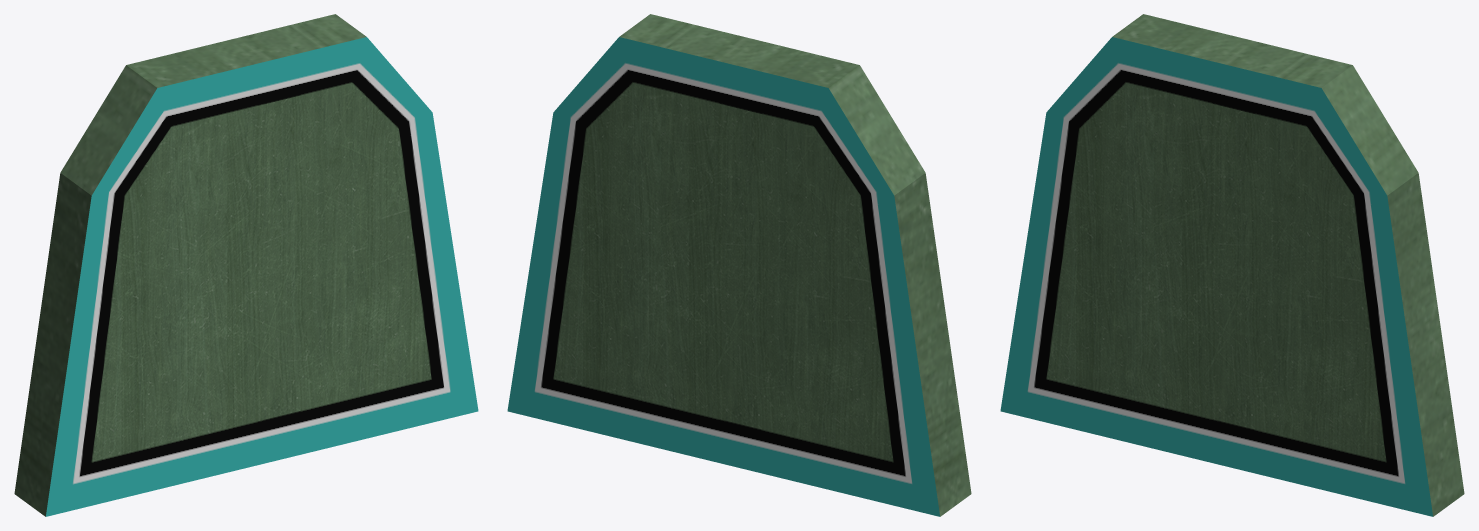
Rendered from SM_Pandaegong01A.fbx.
3 views of the same model, side by side, from view 1: azimuth 30°, elevation 25°; view 2: azimuth 150°, elevation 25°; view 3: azimuth 330°, elevation 25° (orthographic).
Visible parts, largest first — view 1: SM_Pandaegong01A; view 2: SM_Pandaegong01A; view 3: SM_Pandaegong01A.
Boxes of the visible parts, bbox=[...] form: SM_Pandaegong01A: bbox=[14, 14, 478, 516]; SM_Pandaegong01A: bbox=[507, 14, 971, 516]; SM_Pandaegong01A: bbox=[1000, 14, 1464, 516].
Size of the model in its own units: 64.27 by 8.06 by 57.
1 material, 1 textured.
